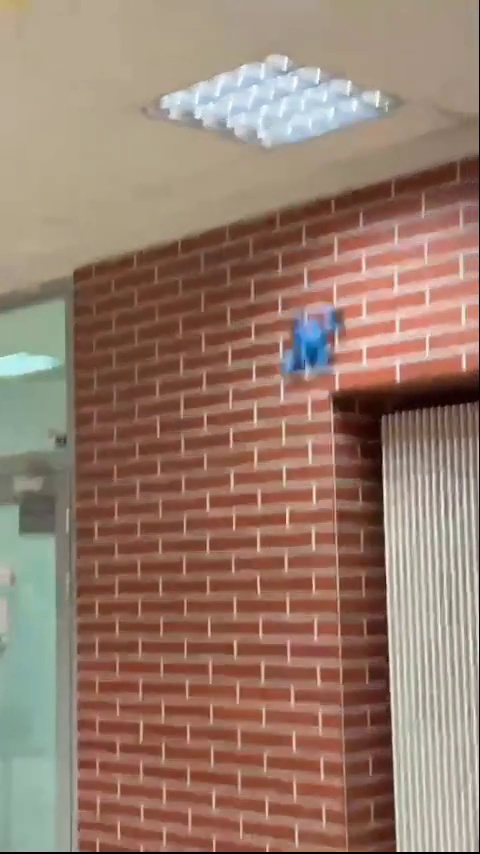drone: (284, 308, 338, 383)
